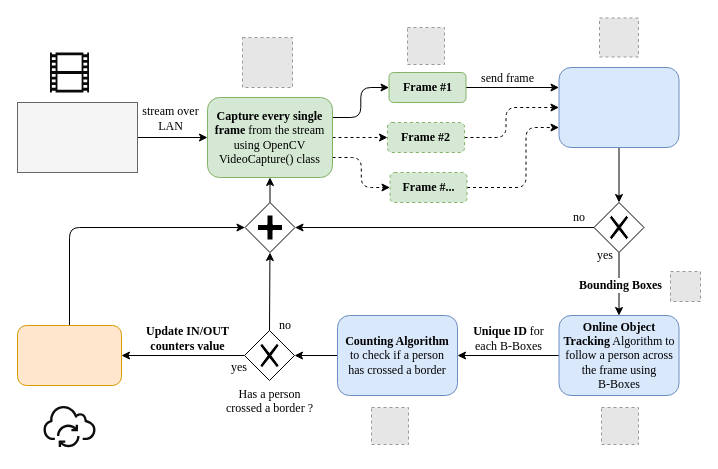
This 718x469 diagram has some shape labels left out. Grey dashed boxes stand in for pictures. The centre of each missing label's shape, as x and y in pixels:
MJPEG Live Video Stream from the RPI: the point at 77,137
Object Detection (YOLO, SSD) to detect all peoples in the frame: the point at 618,107
Person detected ?: the point at 618,227
Send updated counter to BBData: the point at 69,355
